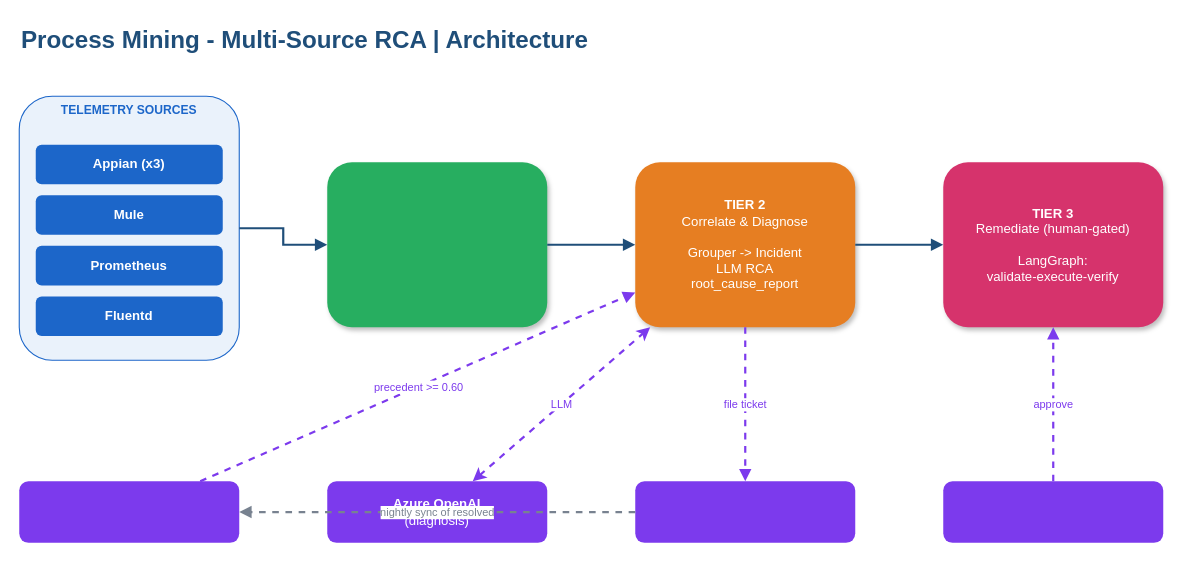
Some shapes in this 1189 by 561 pixel diagram are drawn without their labels. Each missing label, with the centre of its shape:
historical_incident (precedent memory): point (129, 511)
ServiceNow (tickets): point (745, 511)
Streamlit UI (operator): point (1053, 511)
TIER 1 Ingest & Detect Readers -> Analyzers event_log -> finding: point (437, 245)
